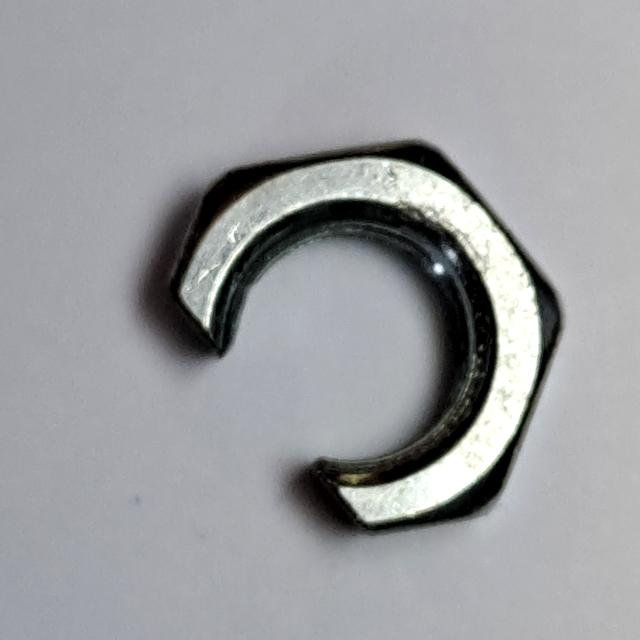Fracture: (158, 119, 577, 550)
